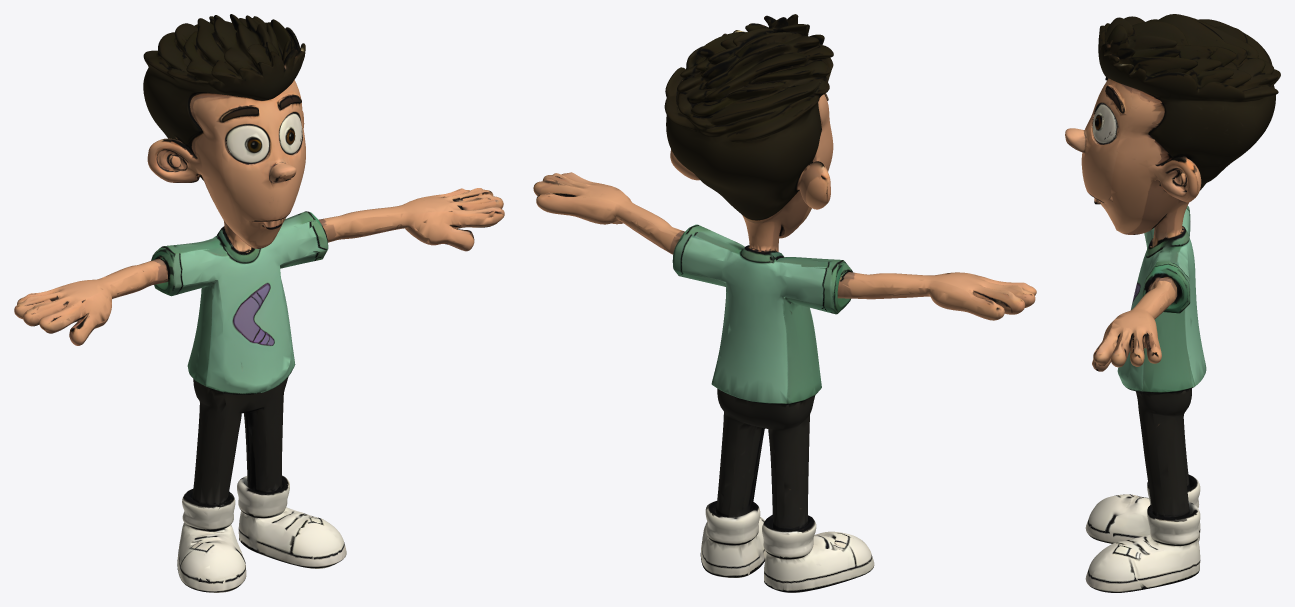
The model's file is sheen_para_mixamo.fbx.
The picture shows the model from 3 angles, left to right: view 1: azimuth 30°, elevation 25°; view 2: azimuth 150°, elevation 25°; view 3: azimuth 270°, elevation 25°; orthographic projection. The views are drawn at different scales.
Visible parts, largest first — view 1: node_0; view 2: node_0; view 3: node_0.
Part boxes in pixels (x1,y1,x2,y2): node_0: (14,14,504,592); node_0: (533,14,1036,592); node_0: (1065,14,1280,592).
Size of the model in its own units: 108 by 113 by 41.35.
1 material, 1 textured.
